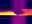Hotspot: (0, 11, 16, 15)
